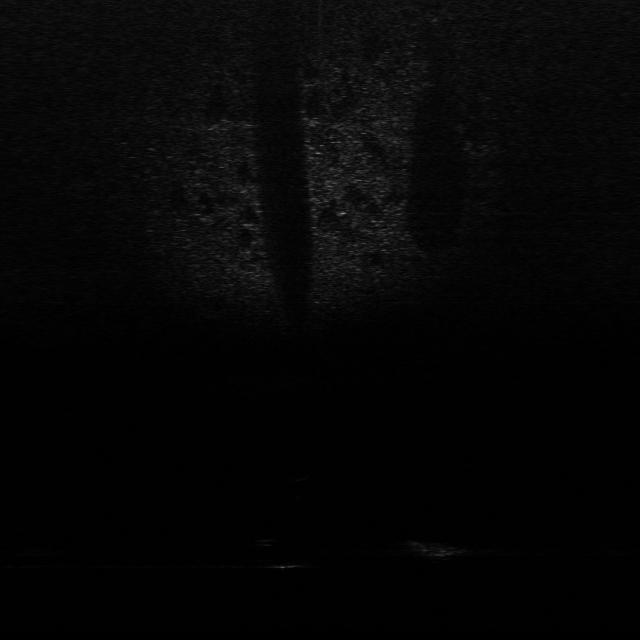metal bucket: (398, 532, 483, 562)
tyre: (246, 532, 316, 573)
